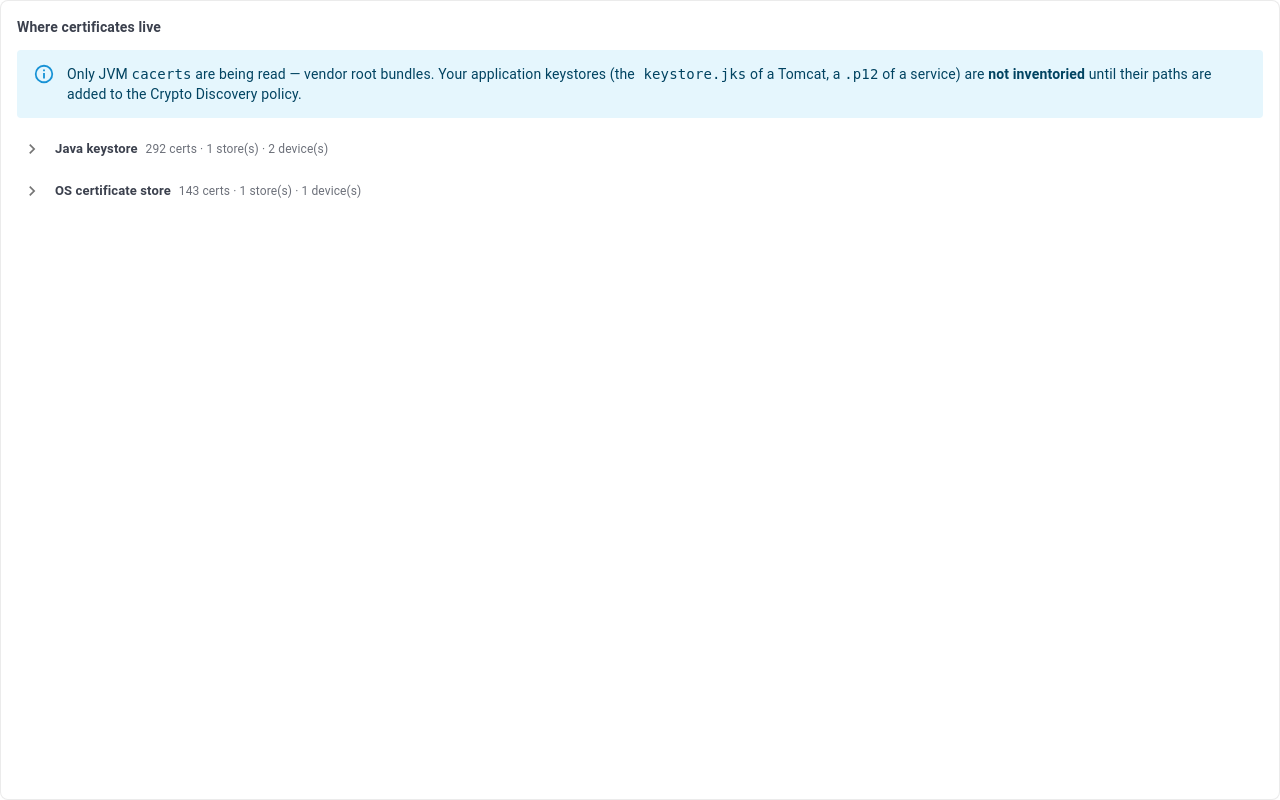
Test: StoresPanel › distingue el bundle del fabricante de lo que lleva clave
The image size is (1280, 800).
Click the button named "Expand Java keystore". click: (32, 149)
box: [17, 134, 47, 164]
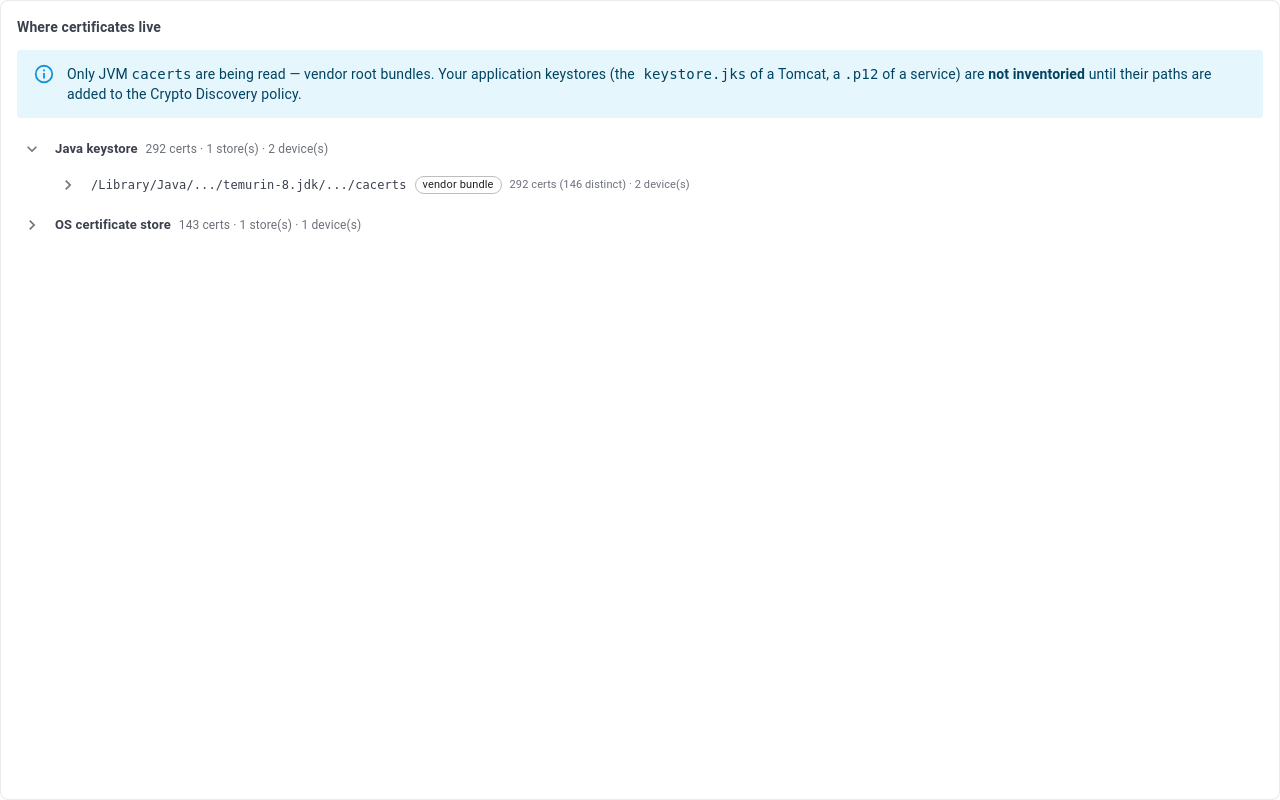
Click the button named "Expand OS certificate store". click: (32, 225)
box: [17, 210, 47, 240]
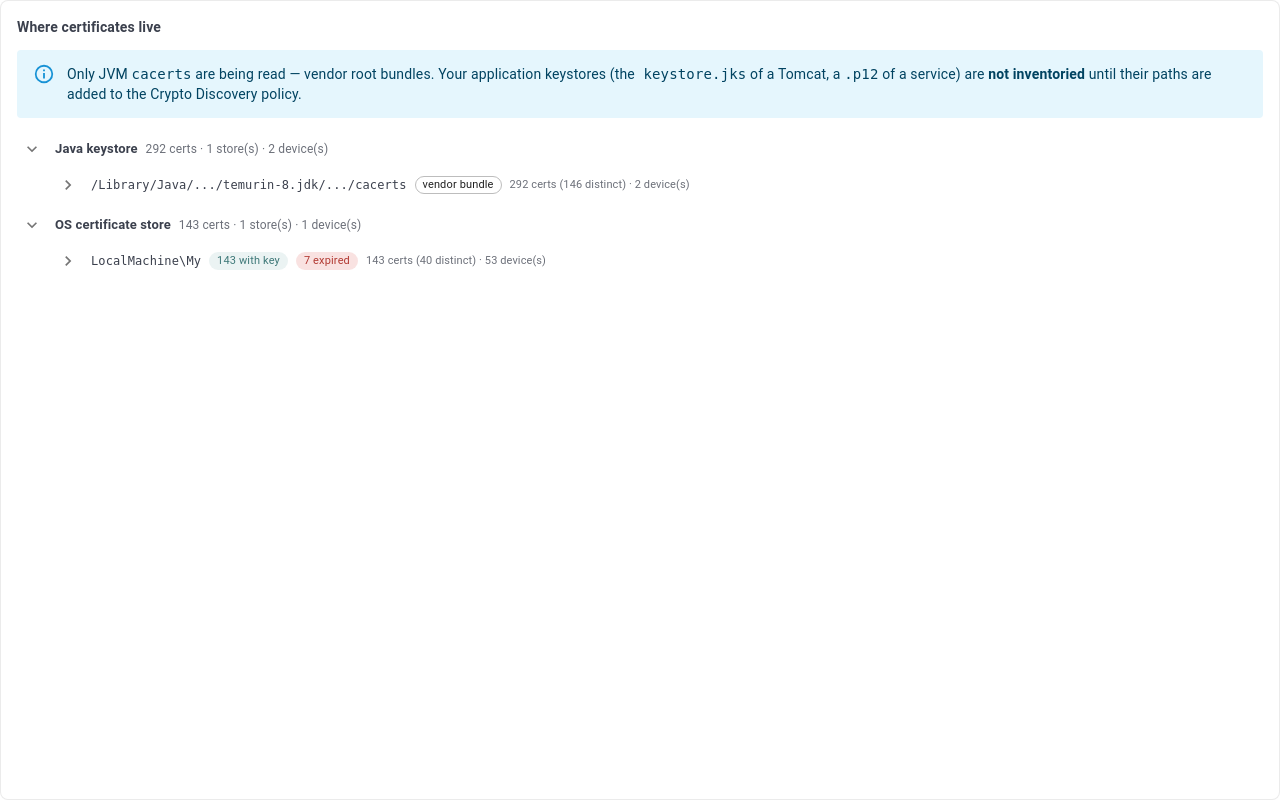
Now the text "vendor bundle" is shown, box [422, 178, 494, 191]
Now the text "143 with key" is shown, box [217, 254, 280, 267]
